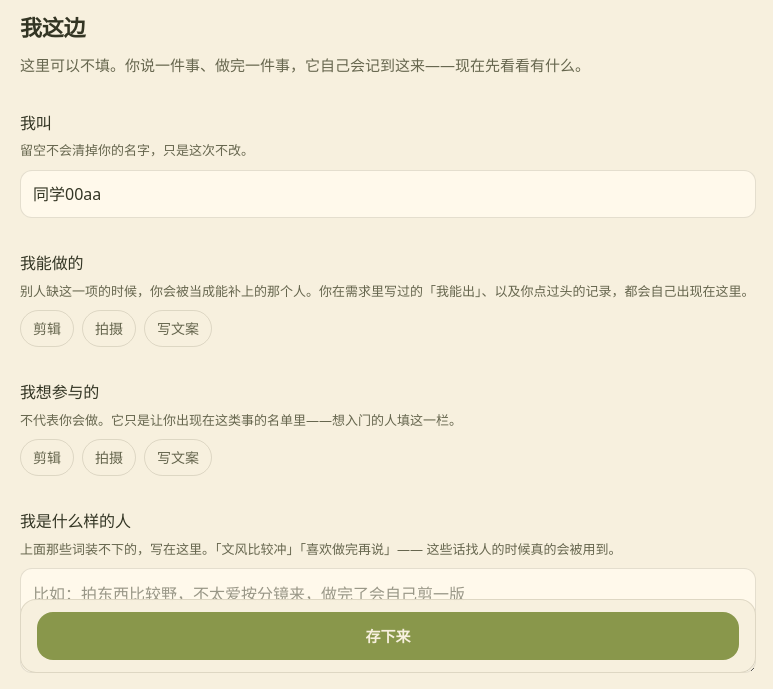
Test: 存失败的时候不吞掉，也不清空他填的东西
The image size is (773, 689).
What coordinates should you click on to do the following:
click the checkbox labelled "剪辑" below "我能做的"
I would click on:
 (47, 329)
Its box is [20, 310, 74, 347].
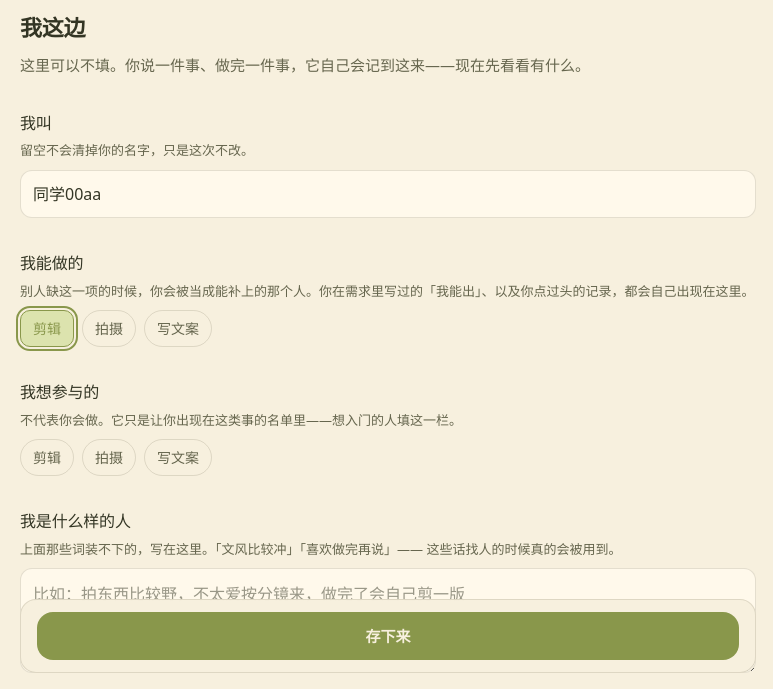
What coordinates should you click on to do the following:
click the button "存下来"
I would click on:
 (388, 636)
Its box is [37, 612, 739, 660].
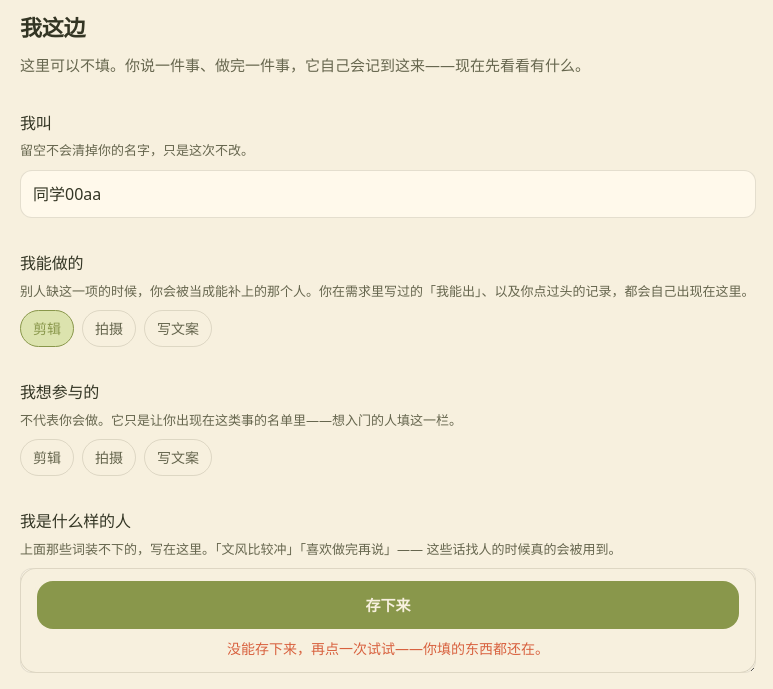
expect the message shows "再点一次": met, box [227, 639, 549, 658]
